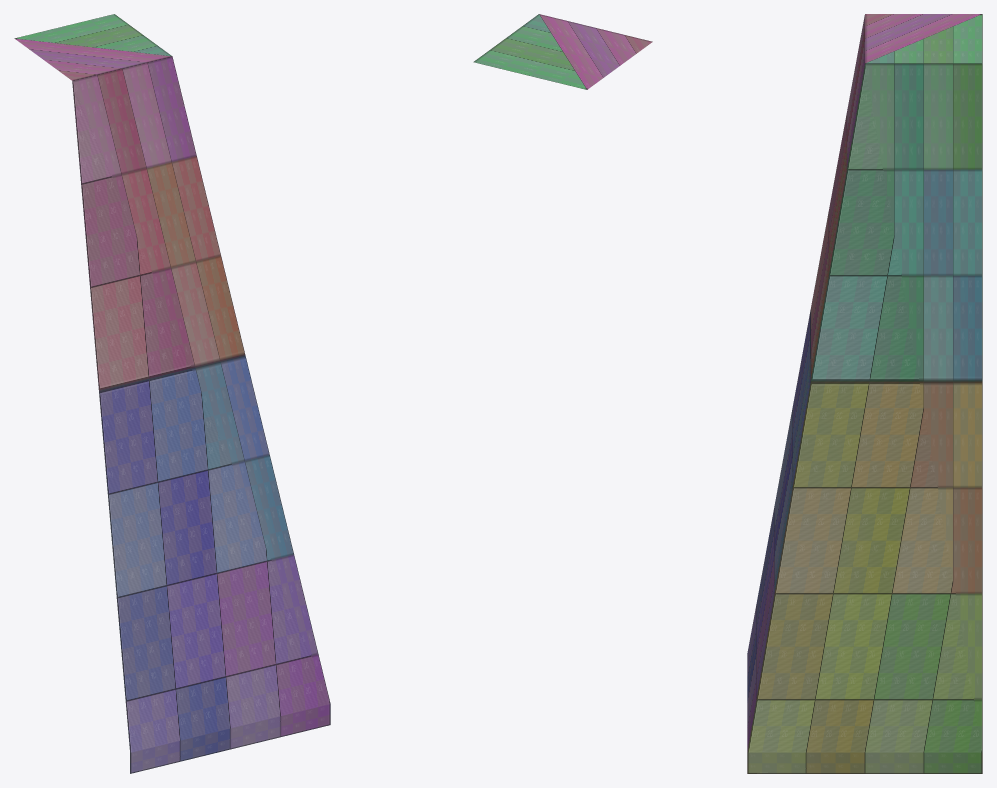
The model's file is tile_wall_corner_concave.glb.
3 views of the same model, side by side, from view 1: azimuth 30°, elevation 25°; view 2: azimuth 150°, elevation 25°; view 3: azimuth 270°, elevation 25° (orthographic). The views are drawn at different scales.
Visible parts, largest first — view 1: tile_wall_corner_concave; view 2: tile_wall_corner_concave; view 3: tile_wall_corner_concave.
Boxes of the visible parts, x1=… form: tile_wall_corner_concave: x1=14, y1=14, x2=330, y2=773; tile_wall_corner_concave: x1=473, y1=14, x2=652, y2=89; tile_wall_corner_concave: x1=747, y1=14, x2=982, y2=773.
Size of the model in its own units: 1 by 3.1 by 1.
Materials: 1 (1 with a texture image).
